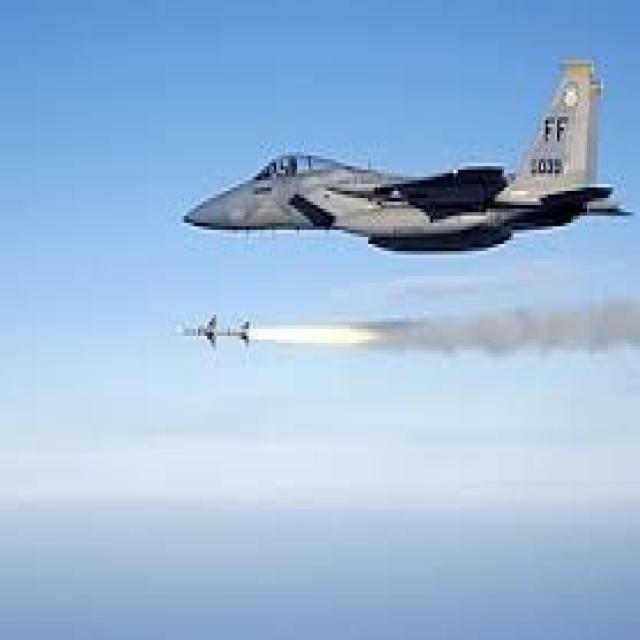F15: (162, 42, 626, 296)
